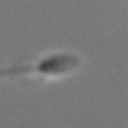abnormal: (1, 59, 40, 84)
